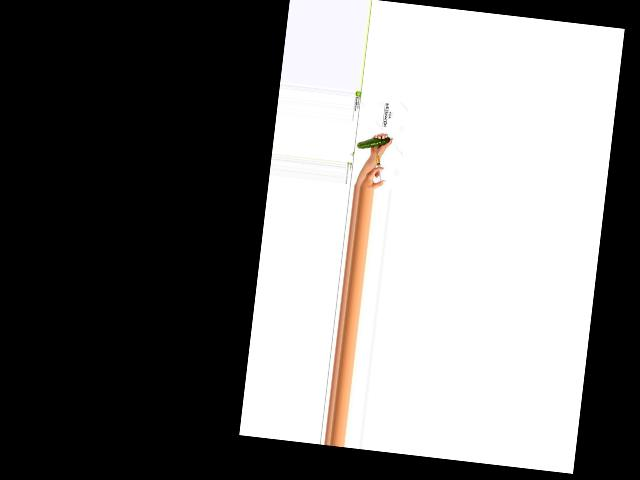cucumber: (356, 133, 390, 152)
